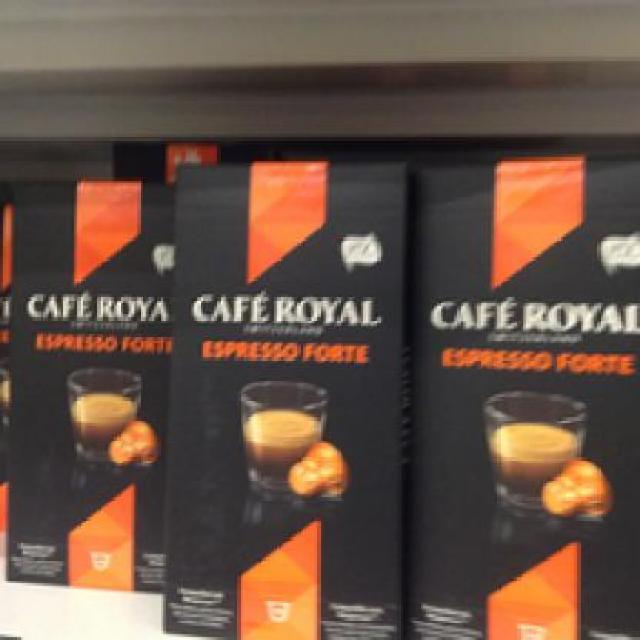Coffee: (160, 154, 409, 637), (412, 152, 634, 638), (2, 176, 168, 590)
